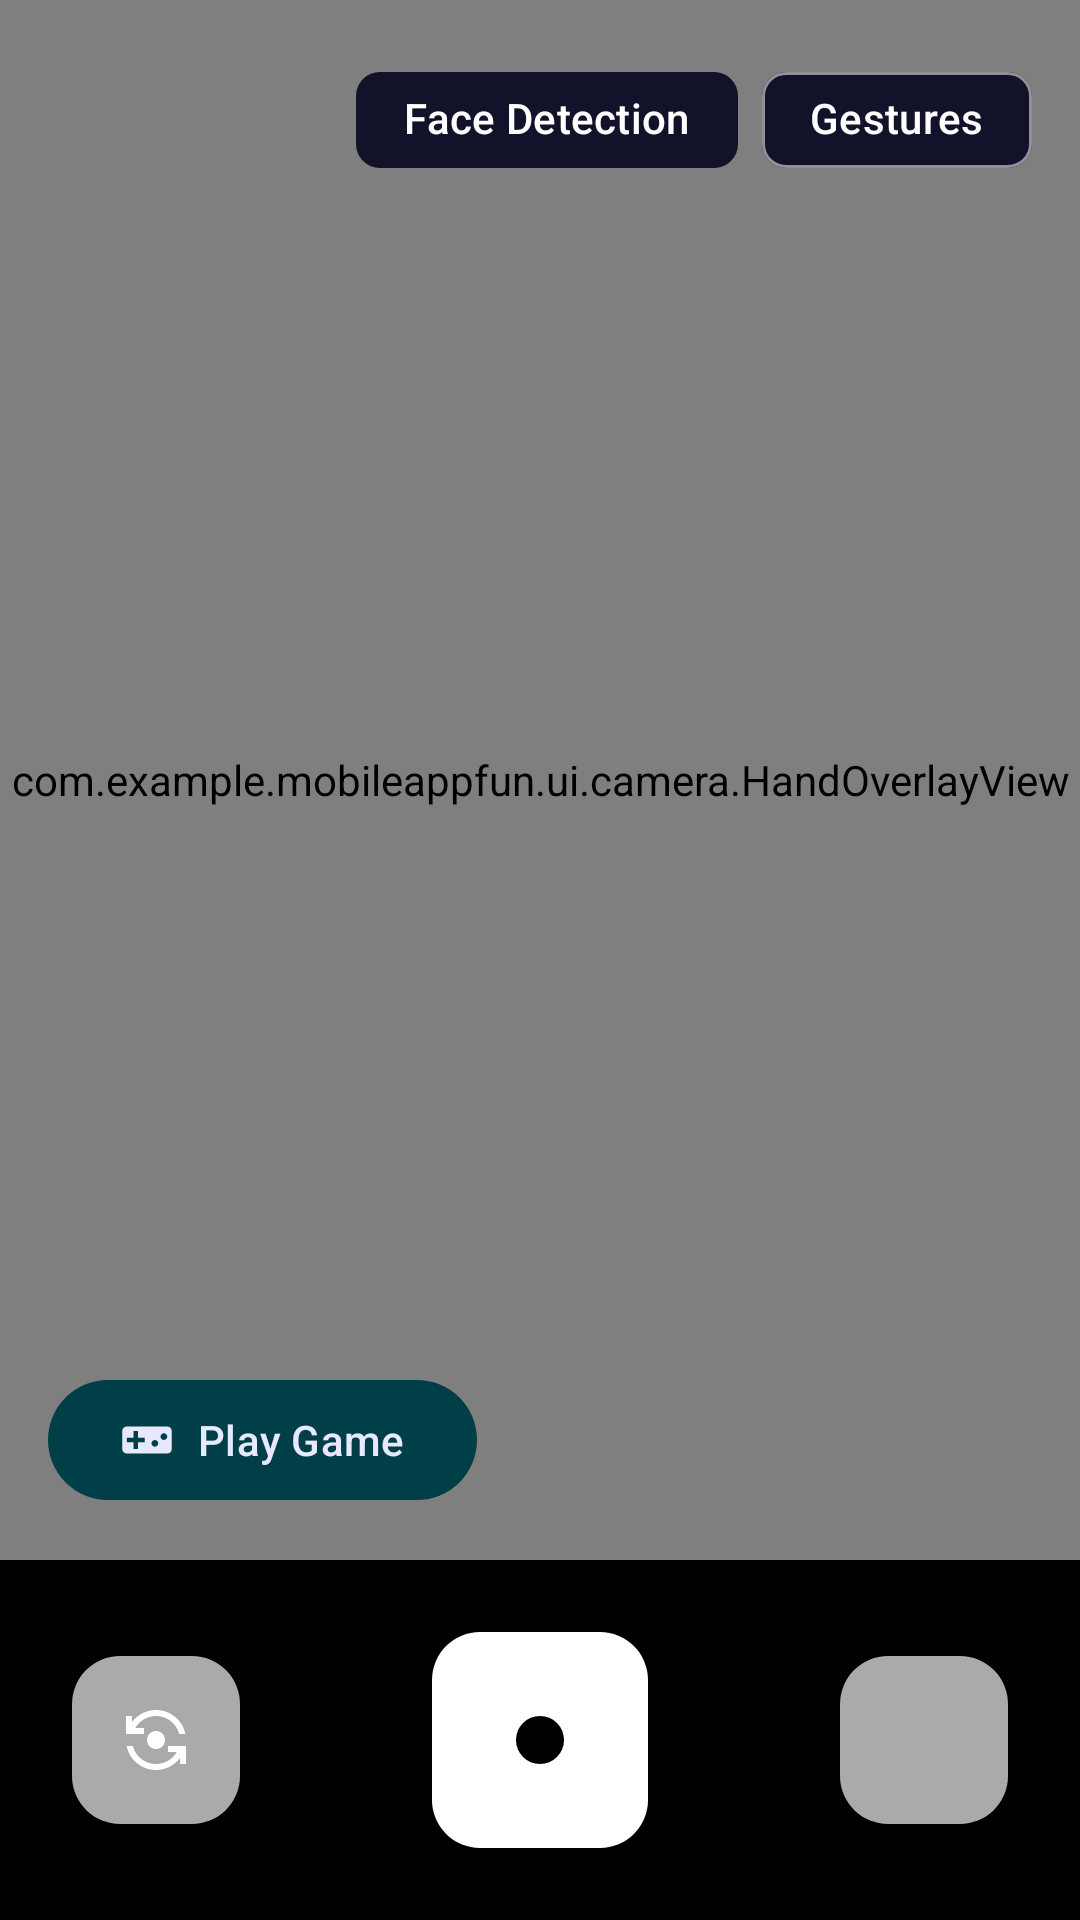

Where to tap for icons on this 1080×1920 app screen, as (x,y):
Capture Photo: (540,1740)
Switch Camera: (156,1740)
